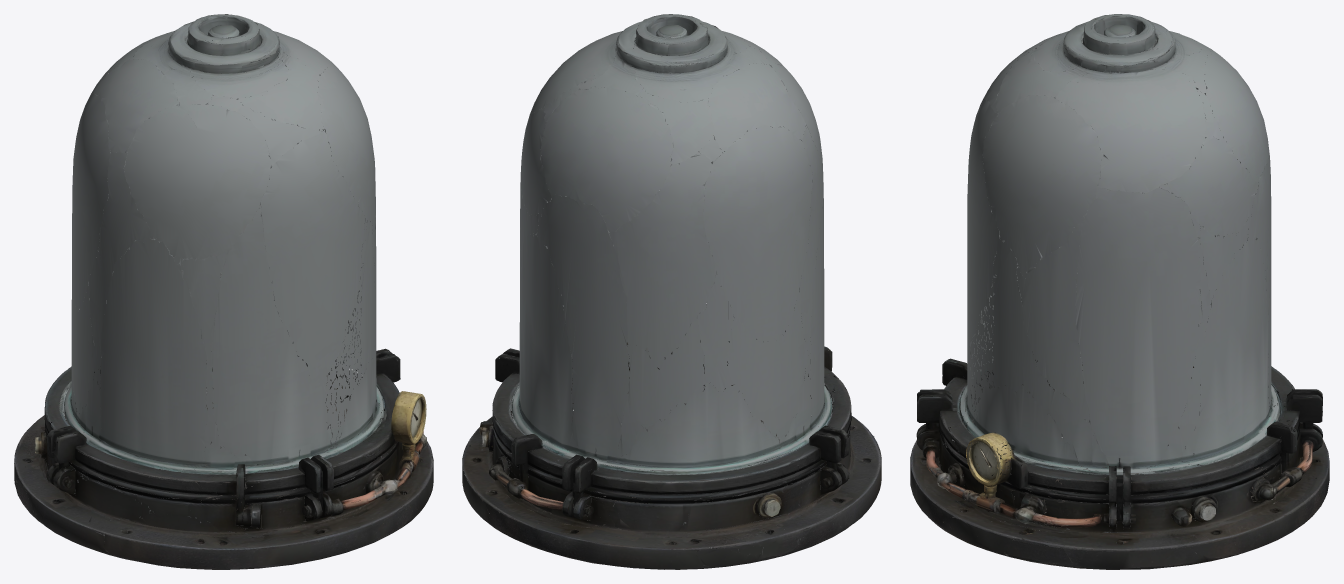
File: vass_containment_bell_jar.glb
3 renders of one model, left to right at view 1: azimuth 30°, elevation 25°; view 2: azimuth 150°, elevation 25°; view 3: azimuth 270°, elevation 25°, orthographic.
Visible parts, largest first — view 1: node_0; view 2: node_0; view 3: node_0.
Part boxes in pixels (left/top/right/bottom): node_0: left=14, top=14, right=433, bottom=569; node_0: left=462, top=14, right=881, bottom=569; node_0: left=910, top=14, right=1329, bottom=569.
Size of the model in its own units: 0.7685 by 0.9237 by 0.7702.
1 material, 1 textured.
